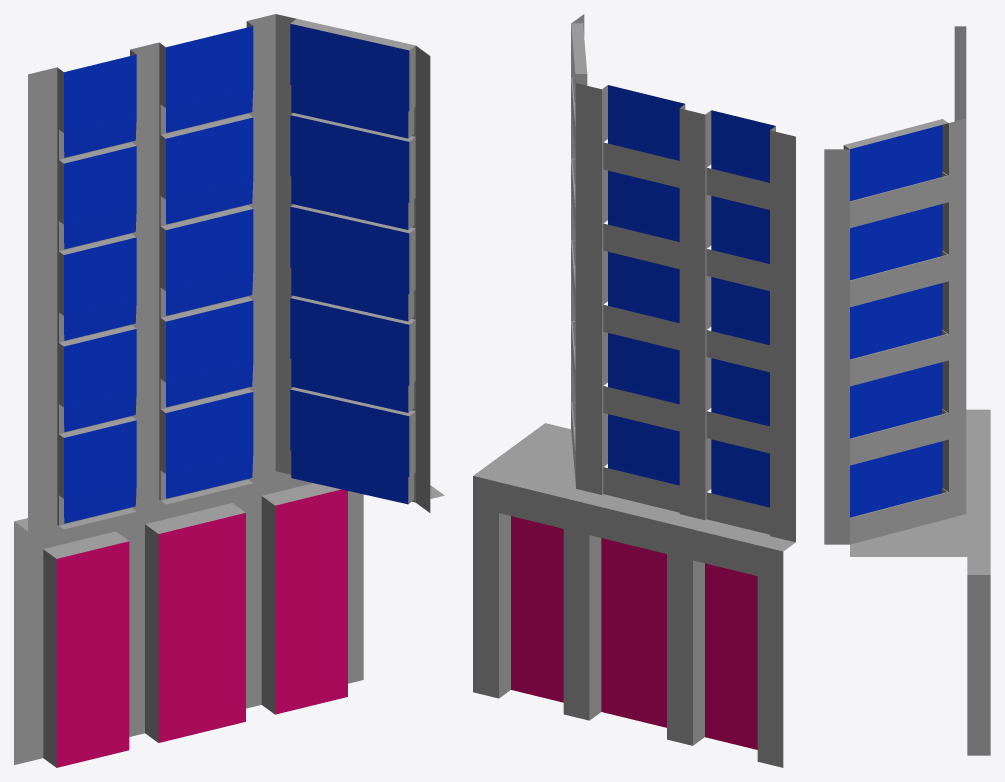
The model's file is building 1.fbx.
3 renders of one model, left to right at view 1: azimuth 30°, elevation 25°; view 2: azimuth 150°, elevation 25°; view 3: azimuth 270°, elevation 25°, orthographic. The views are drawn at different scales.
Parts seen in each view (by area): view 1: pPlane1; view 2: pPlane1; view 3: pPlane1.
Part boxes in pixels (x1=…): pPlane1: x1=14, y1=14, x2=444, y2=767; pPlane1: x1=473, y1=14, x2=795, y2=767; pPlane1: x1=824, y1=26, x2=990, y2=755.
Size of the model in its own units: 600 by 1150 by 285.
